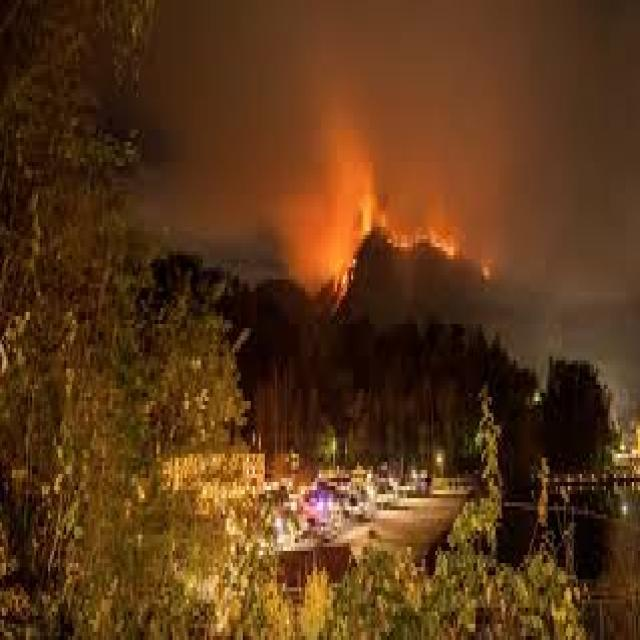Fire: (279, 108, 387, 338), (373, 174, 491, 294)
Smoke: (114, 0, 272, 279), (498, 48, 640, 324)
